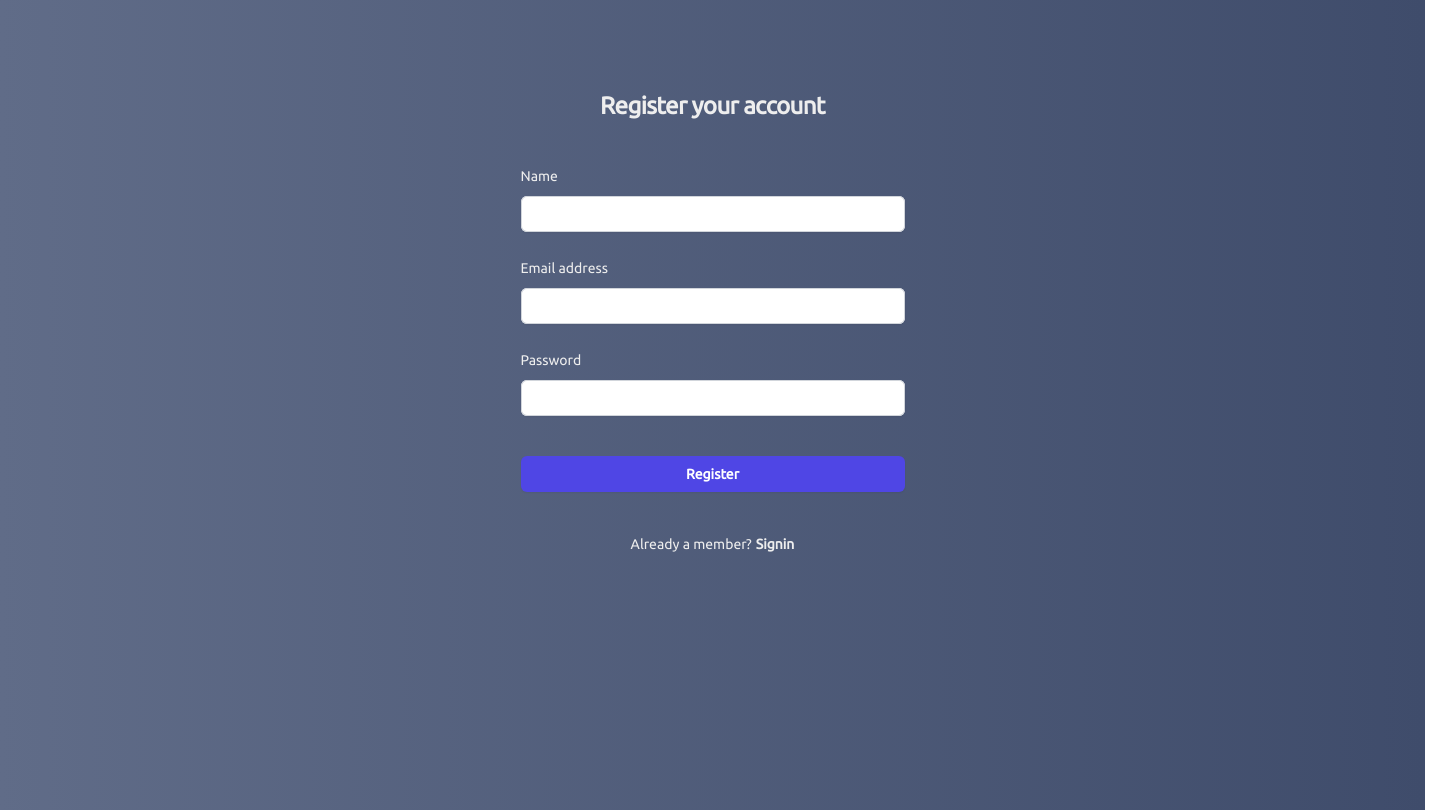
Register component › displays validation errors on invalid input
Type "A" into the field labelled "Name". click: (712, 214)
box: [520,196,904,232]
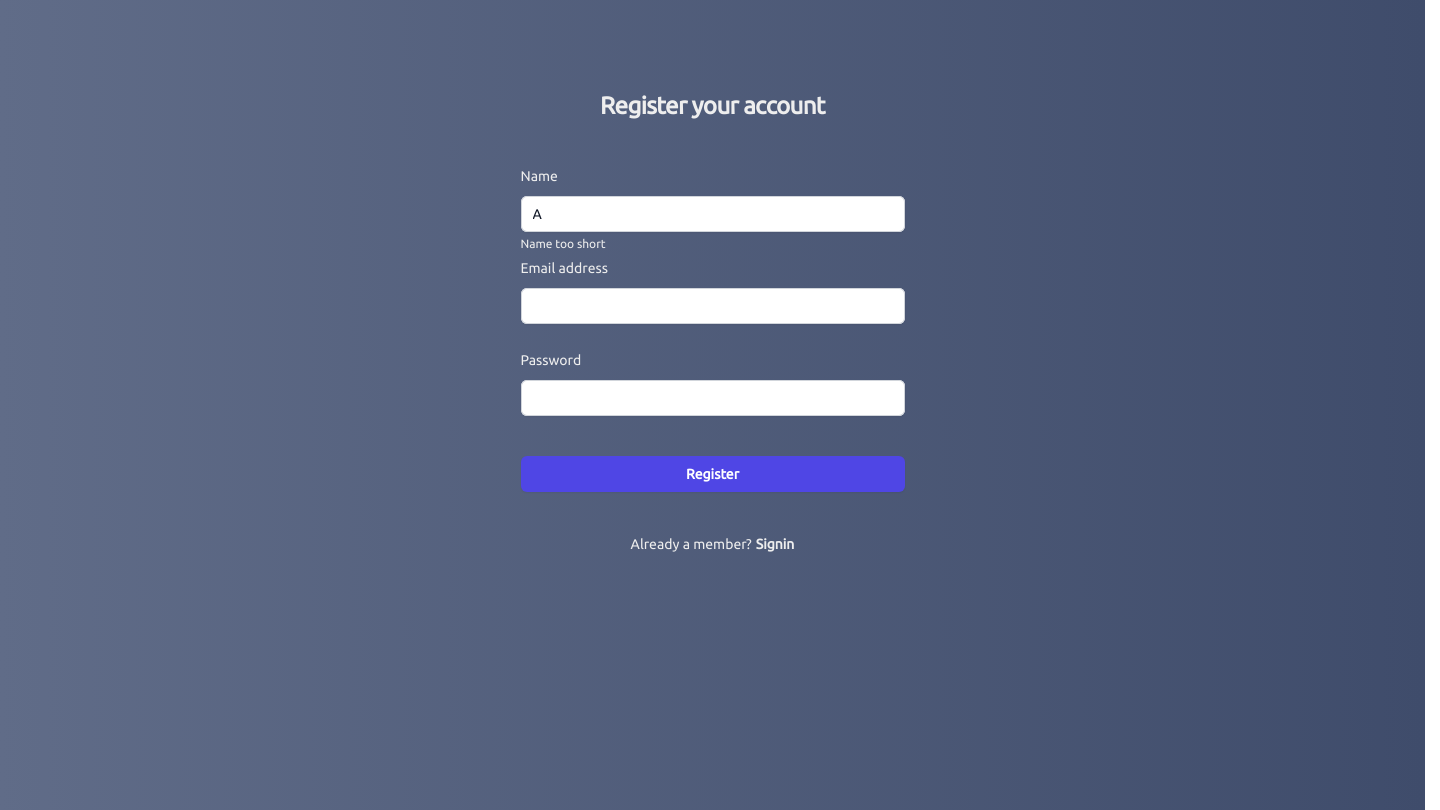
Type "invalid email" into the field labelled "Email address". click: (712, 306)
box: [520,288,904,324]
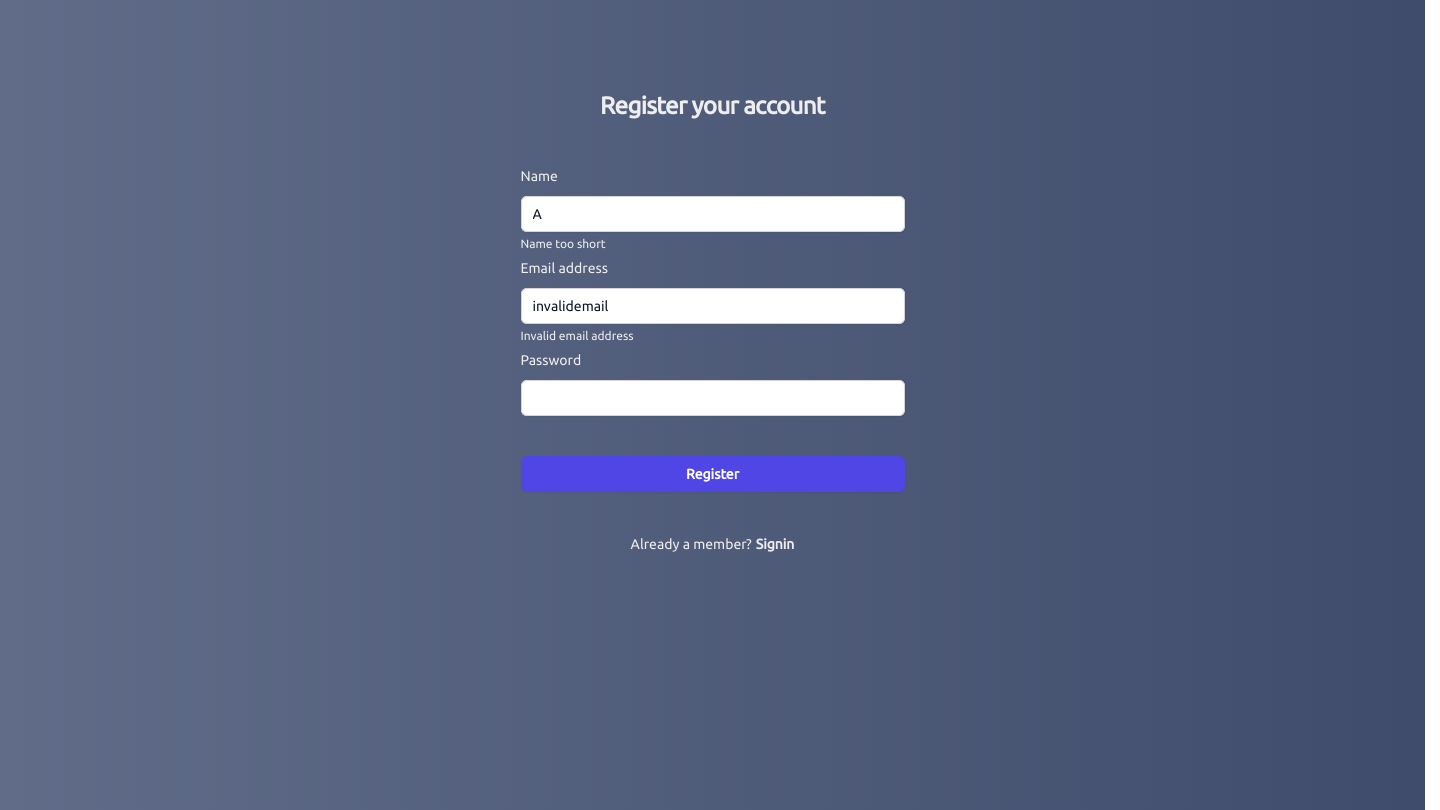
Type "123" into the password field labelled "Password". click: (712, 398)
box: [520,380,904,416]
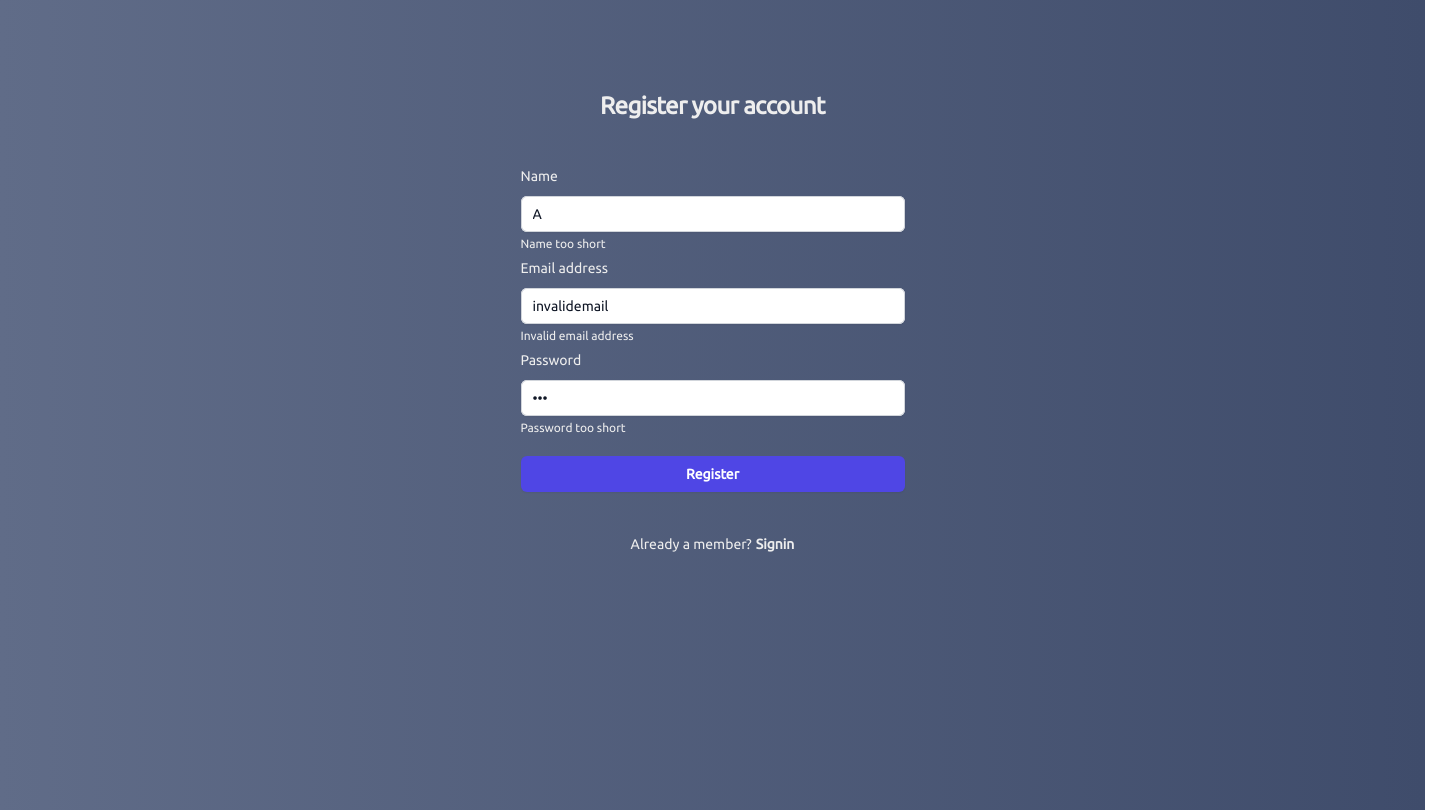
Expected: the text "Name too short" is shown, [520,236,606,252]
Expected: the text "Invalid email address" is shown, [520,328,634,344]
Expected: the text "Password too short" is shown, [520,420,626,436]
